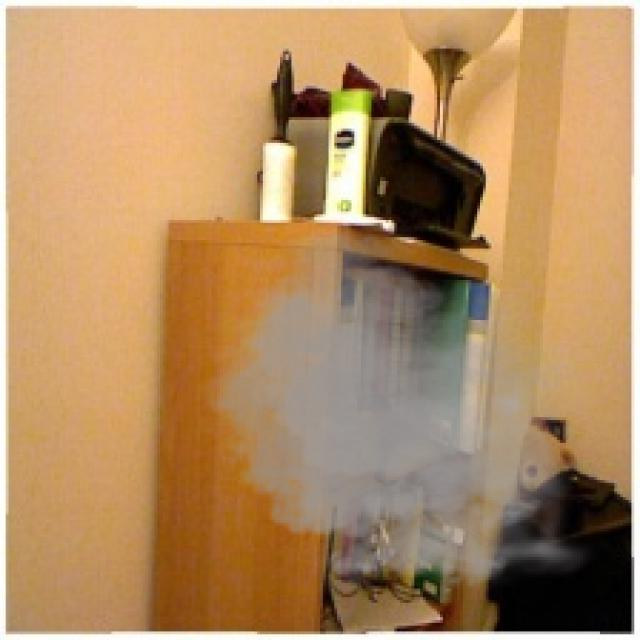smoke: (191, 217, 603, 606)
